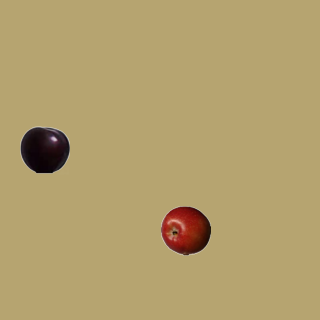Apple Braeburn: (160, 205, 210, 255)
Cherry Wax Black: (19, 124, 69, 174)
